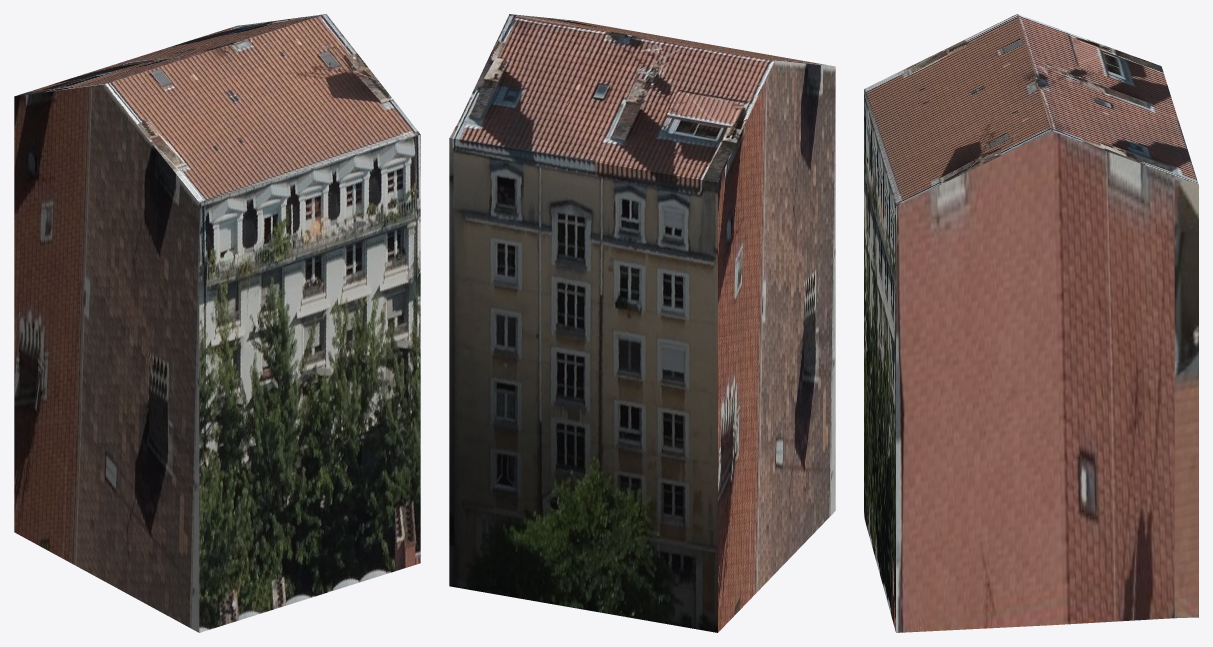
3 views of the same model, side by side, from view 1: azimuth 30°, elevation 25°; view 2: azimuth 150°, elevation 25°; view 3: azimuth 270°, elevation 25° (orthographic). The views are drawn at different scales.
Parts seen in each view (by area): view 1: Z_UP; view 2: Z_UP; view 3: Z_UP.
Boxes of the visible parts, left/top/right/bottom form: Z_UP: left=14, top=14, right=420, bottom=632; Z_UP: left=449, top=14, right=835, bottom=632; Z_UP: left=864, top=14, right=1198, bottom=632.
Bounding box in the file's own units: 15.38 × 26.74 × 16.4.
2 materials, 1 textured.
